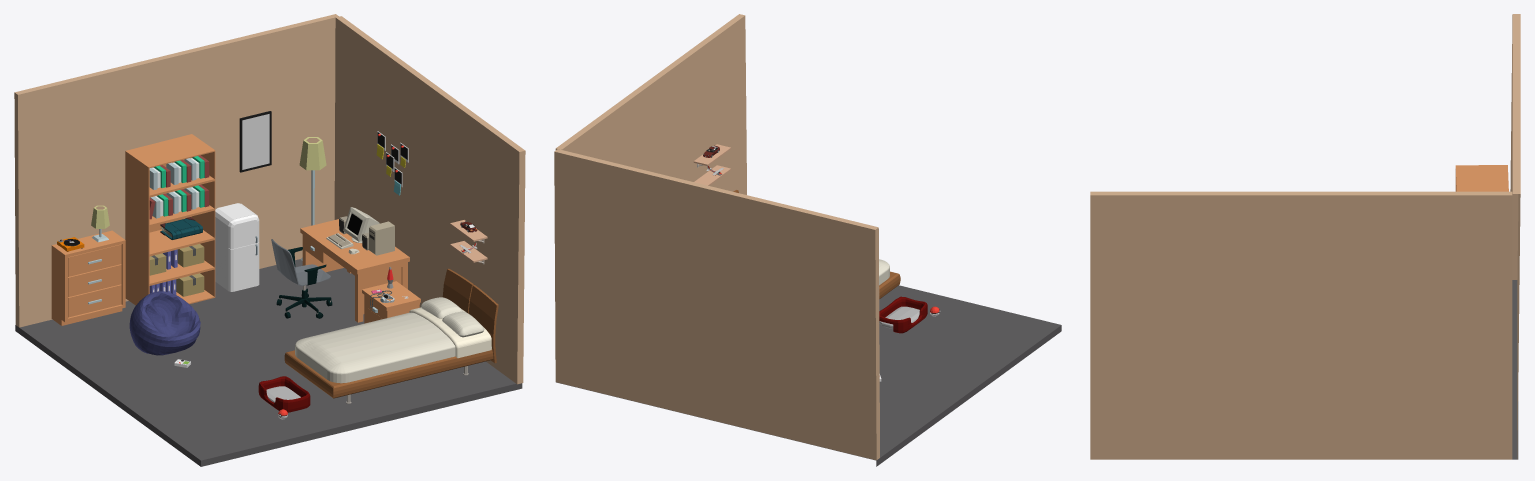
File: bedroom-draco.glb
The picture shows the model from 3 angles, left to right: view 1: azimuth 30°, elevation 25°; view 2: azimuth 150°, elevation 25°; view 3: azimuth 270°, elevation 25°; orthographic projection. The views are drawn at different scales.
Parts seen in each view (by area): view 1: scene.001, library, periferics, monitor.001; view 2: scene.001; view 3: scene.001, library.
Boxes of the visible parts, x1,y1,x2,y2 form: scene.001: (14,14,525,466); library: (125,134,215,305); periferics: (326,216,394,255); monitor.001: (343,207,379,243); scene.001: (554,14,1061,466); scene.001: (1090,14,1520,459); library: (1455,165,1508,191).
Size of the model in its own units: 2.01 by 1.42 by 2.02.
